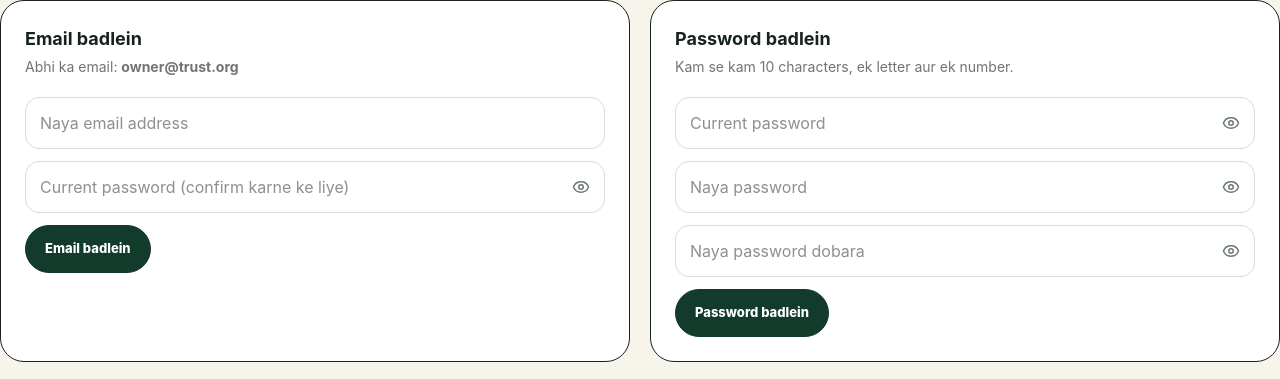
AccountSettings › change email: needs valid email + password, shows duplicate error from server
The image size is (1280, 379).
Type "nope" into the field with placeholder "Naya email address".
click(315, 123); type("nope")  # box top-left (25, 97), bottom-right (605, 149)
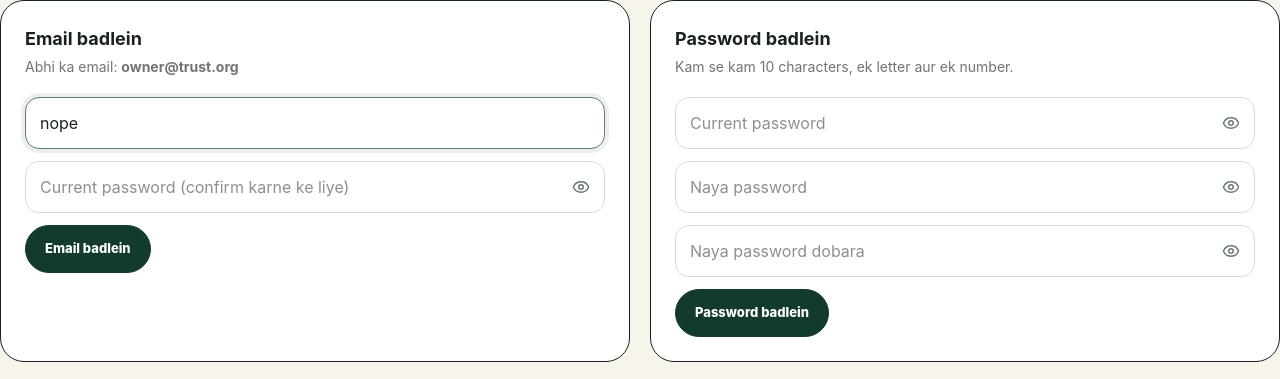
Click the button "Email badlein".
click(88, 249)  # box top-left (25, 225), bottom-right (151, 272)
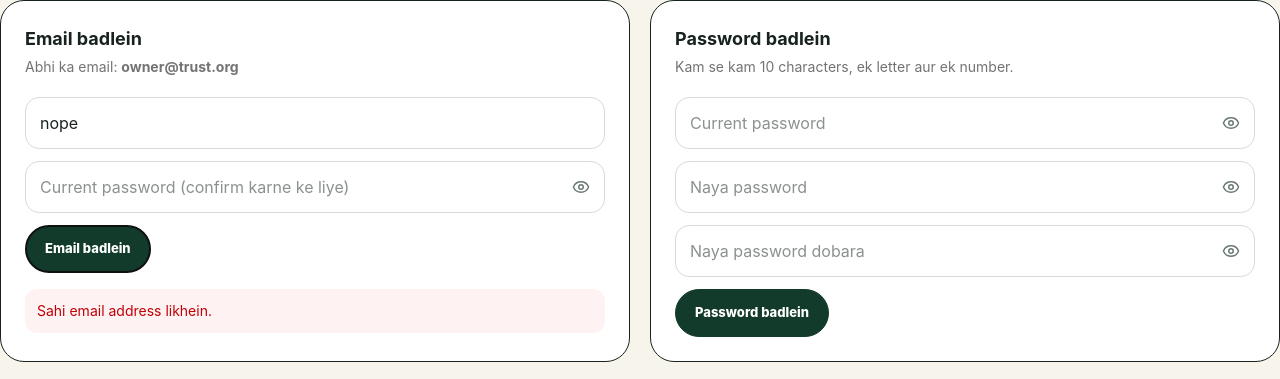
Now the message shows "Sahi email", box top-left (37, 302), bottom-right (212, 318)
Replace the text in the field with placeholder "Naya email address" with "staff@trust.org" at (315, 123), box top-left (25, 97), bottom-right (605, 149)
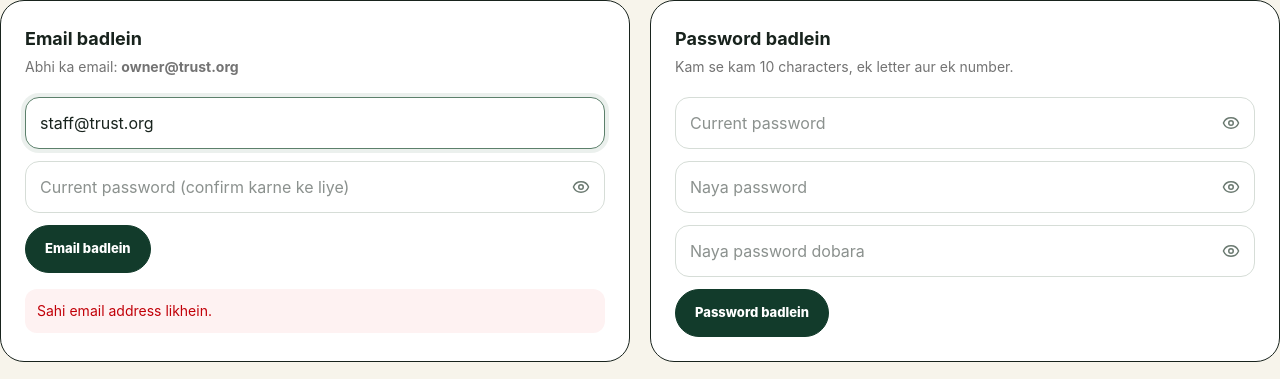
Type "Old-password-123" into the password field with placeholder "Current password (confirm karne ke liye)".
click(315, 187); type("Old-password-123")  # box top-left (25, 161), bottom-right (605, 213)
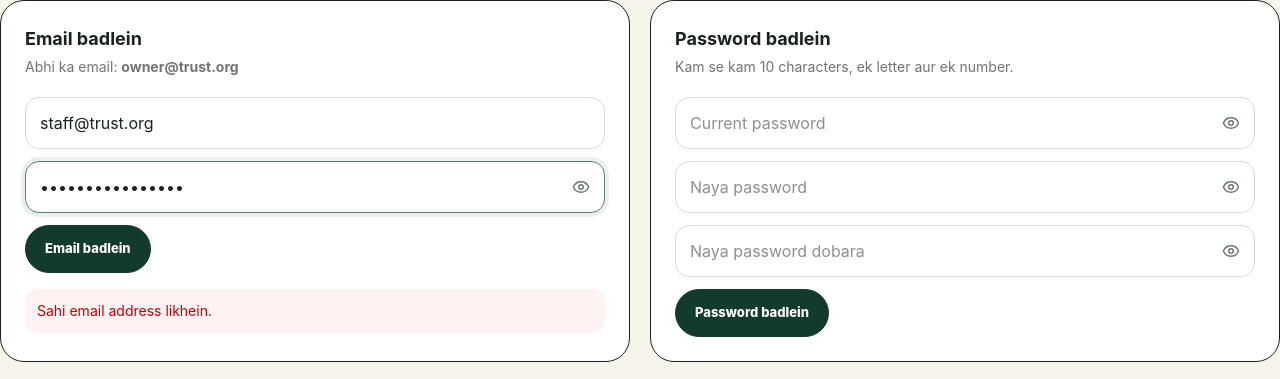
Click the button "Email badlein".
click(88, 249)  # box top-left (25, 225), bottom-right (151, 272)
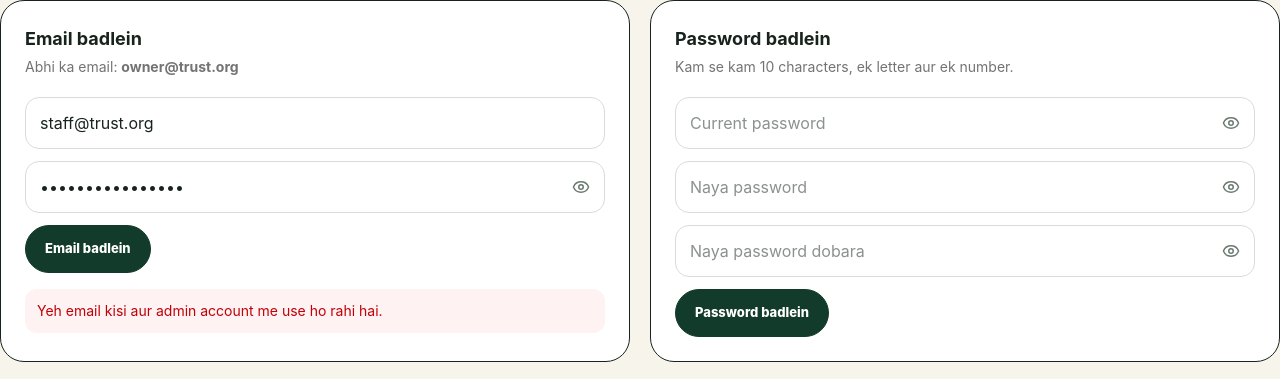
Now the message shows "kisi aur admin", box top-left (37, 302), bottom-right (383, 318)
